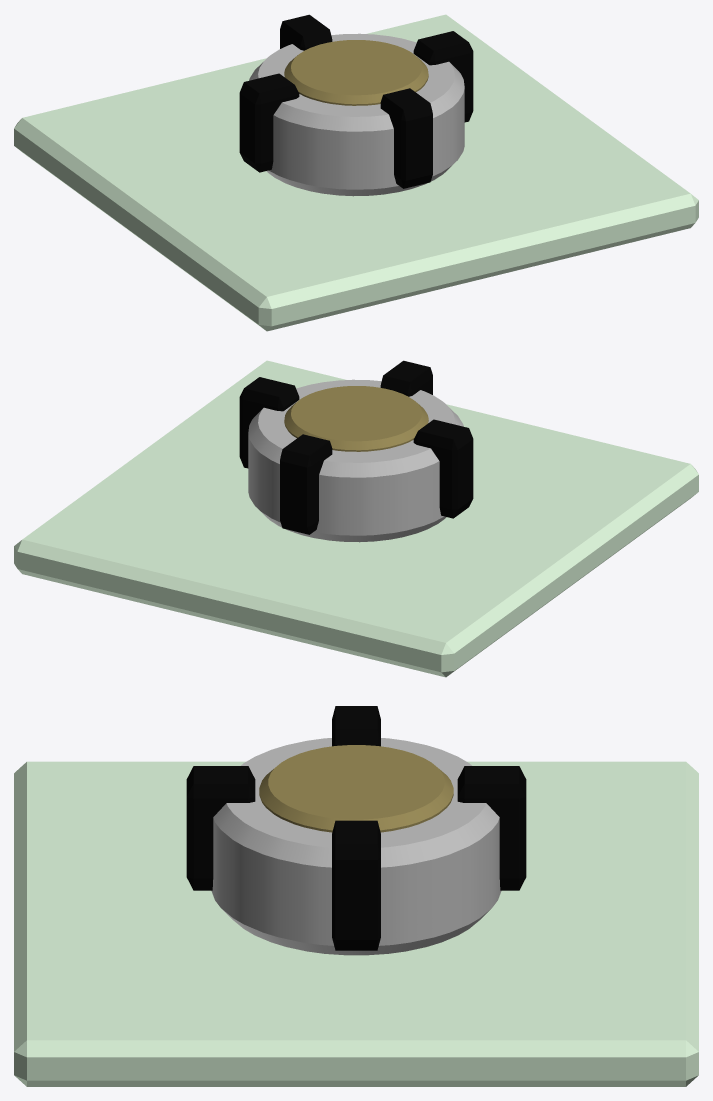
The picture shows the model from 3 angles, top to bottom: view 1: azimuth 30°, elevation 25°; view 2: azimuth 150°, elevation 25°; view 3: azimuth 270°, elevation 25°; orthographic projection. The views are drawn at different scales.
Visible parts, largest first — view 1: pCube1, pCylinder4; view 2: pCube1, pCylinder4; view 3: pCube1, pCylinder4.
Part boxes in pixels (bbox=[...]): pCube1: bbox=[14, 14, 698, 331]; pCylinder4: bbox=[239, 14, 473, 196]; pCube1: bbox=[14, 360, 698, 677]; pCylinder4: bbox=[239, 360, 473, 542]; pCube1: bbox=[14, 761, 698, 1086]; pCylinder4: bbox=[186, 706, 526, 955].
Size of the model in its own units: 0.1745 by 0.0485 by 0.1745.
